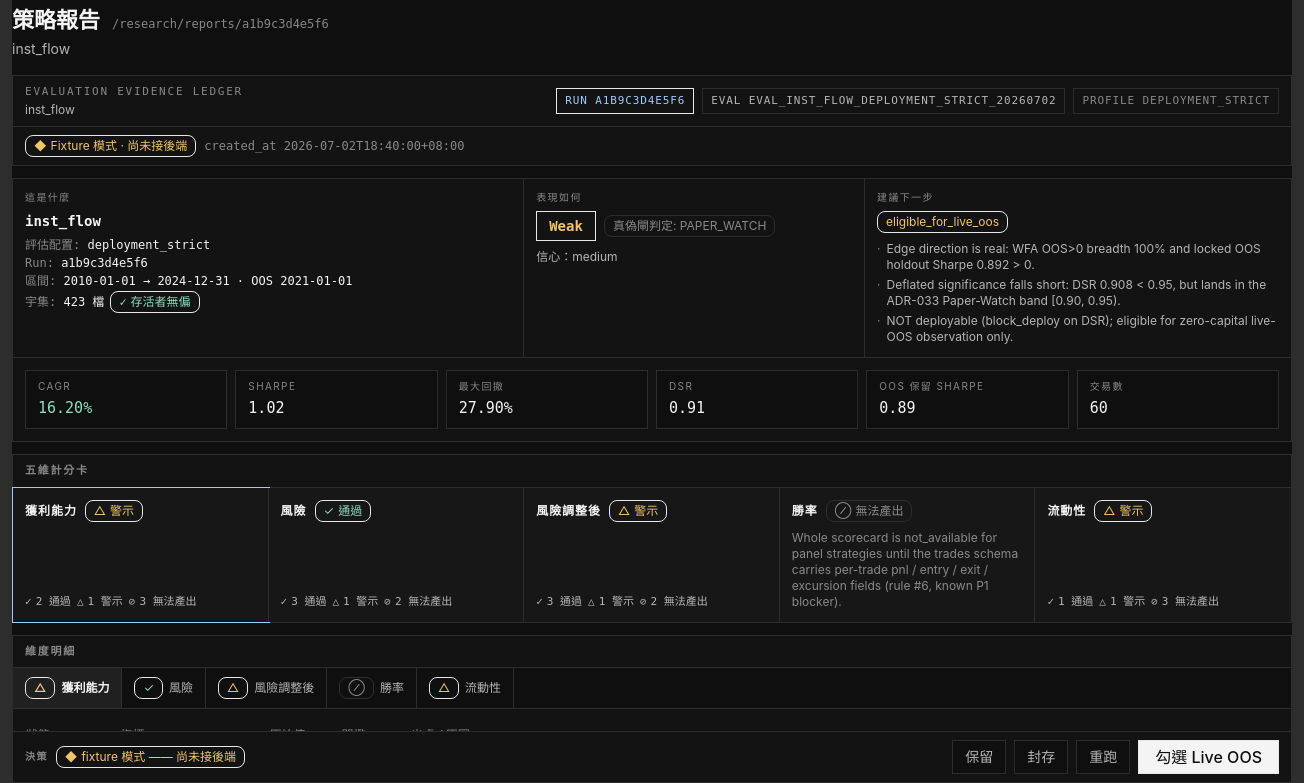
it: ReportViewerPage · fixture mode › switches sheet tab when a scorecard card is clicked
Click the button with test id "scorecard-risk" at [396, 554], box [269,488,524,622]
(page scrolled)
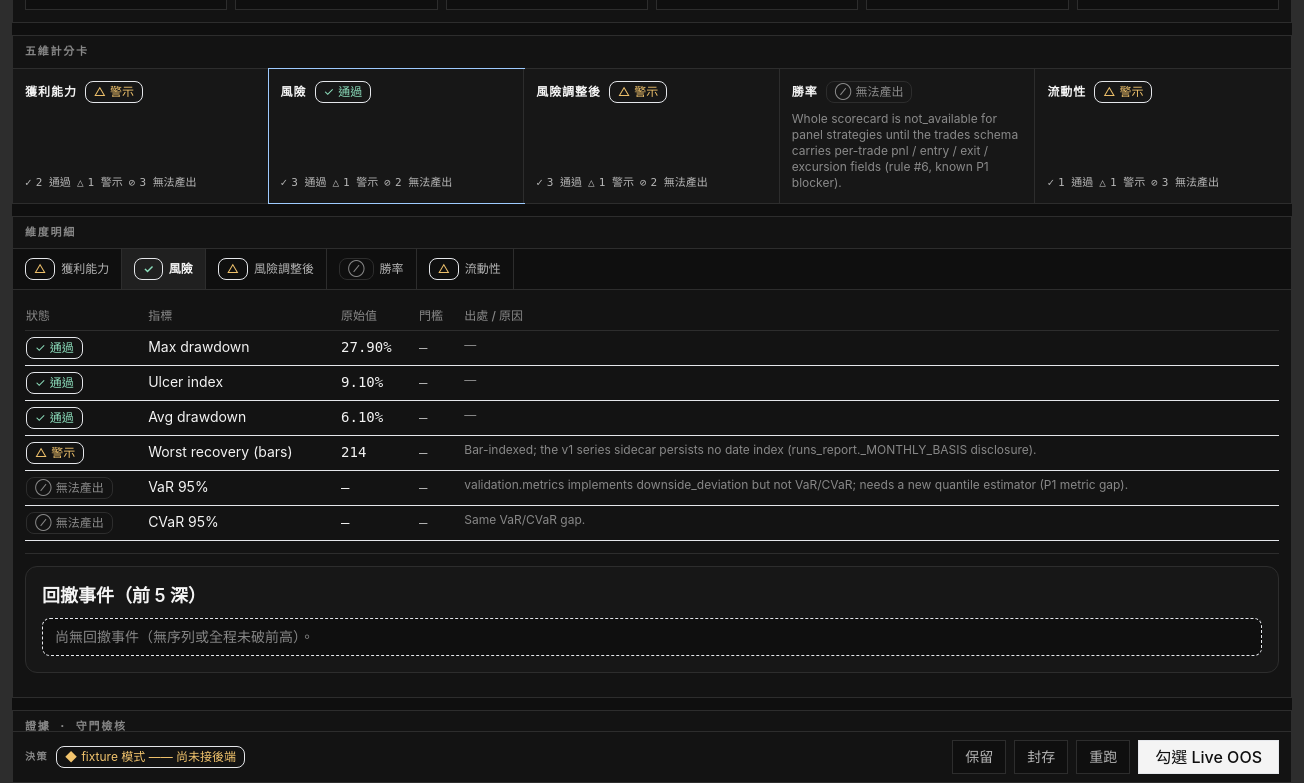
Result: the text "Ulcer index" is shown at [147,366,340,401]
